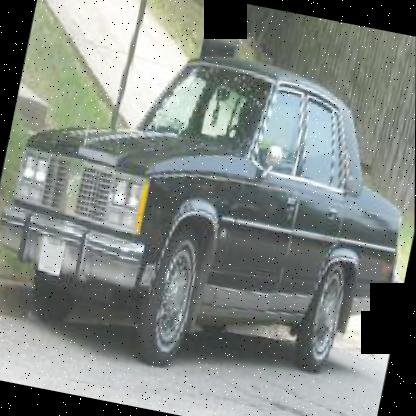not_emergency: (0, 17, 415, 407)
